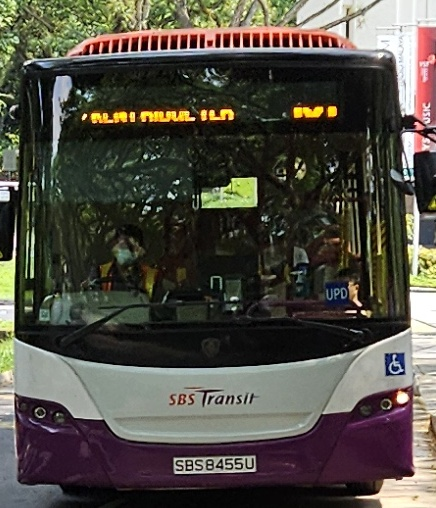bus: (271, 77, 347, 124)
